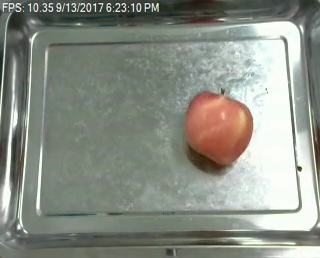Apple: (182, 88, 253, 167)
